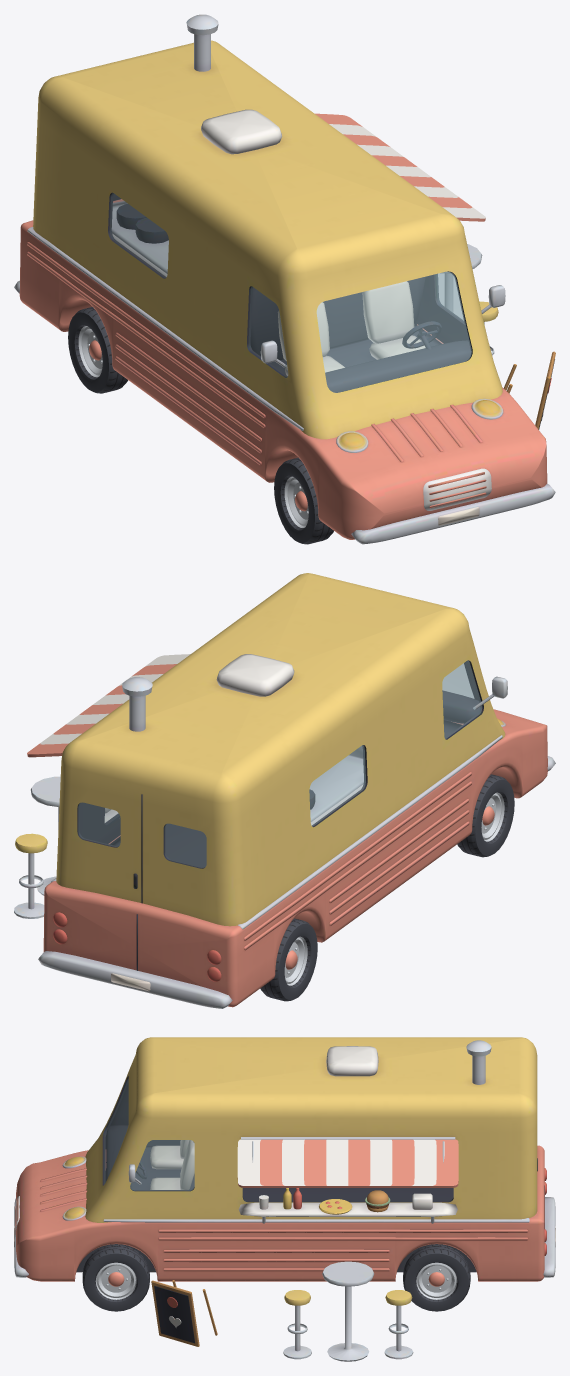
File: food-truck.glb
3 views of the same model, one above another, from view 1: azimuth 30°, elevation 25°; view 2: azimuth 150°, elevation 25°; view 3: azimuth 270°, elevation 25° (orthographic). The views are drawn at different scales.
Parts seen in each view (by area): view 1: food-truck_body, food-truck_windows, food-truck_hatch, food-truck_wheel_fr, food-truck_wheel_rr; view 2: food-truck_body, food-truck_windows, food-truck_wheel_rr, food-truck_wheel_fr, food-truck_hatch; view 3: food-truck_body, food-truck_hatch, food-truck_windows, food-truck_wheel_fl, food-truck_wheel_rl.
Part boxes in pixels (<box>): food-truck_body: <box>14,14,555,544</box>; food-truck_windows: <box>110,193,471,392</box>; food-truck_hatch: <box>315,113,485,221</box>; food-truck_wheel_fr: <box>274,457,333,544</box>; food-truck_wheel_rr: <box>68,307,127,393</box>; food-truck_body: <box>14,573,555,1008</box>; food-truck_windows: <box>78,660,481,867</box>; food-truck_wheel_rr: <box>260,918,317,1001</box>; food-truck_wheel_fr: <box>457,774,514,857</box>; food-truck_hatch: <box>27,654,190,757</box>; food-truck_body: <box>14,1037,555,1361</box>; food-truck_hatch: <box>237,1139,458,1187</box>; food-truck_windows: <box>104,1079,194,1190</box>; food-truck_wheel_fl: <box>82,1244,149,1311</box>; food-truck_wheel_rl: <box>403,1244,470,1311</box>.
Bounding box in the file's own units: 3.78 × 3.26 × 6.42.
18 materials, 5 textured.
